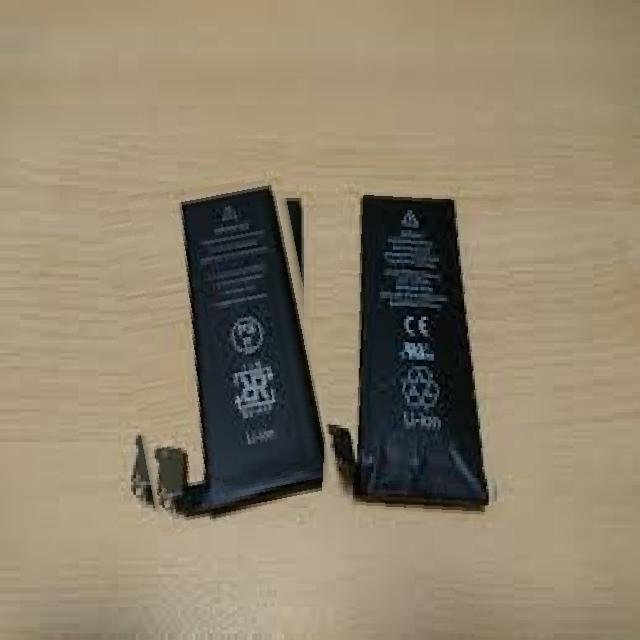Battery: (117, 162, 326, 530), (333, 186, 529, 524)
